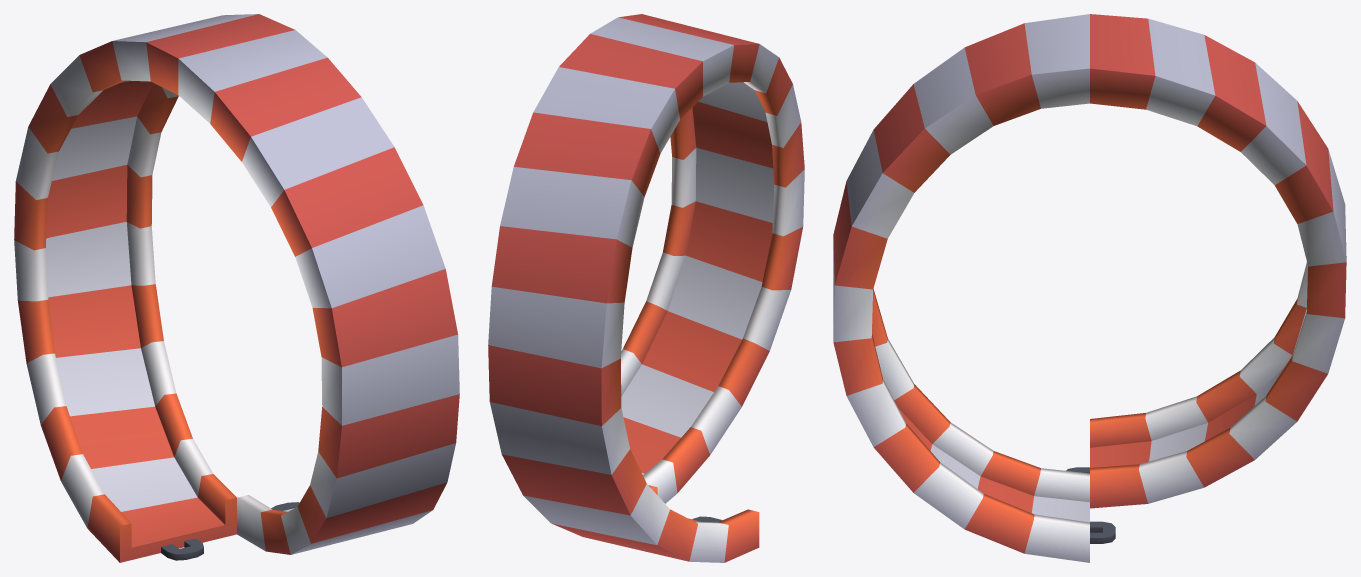
The model's file is track-striped-narrow-looping.glb.
The picture shows the model from 3 angles, left to right: view 1: azimuth 30°, elevation 25°; view 2: azimuth 150°, elevation 25°; view 3: azimuth 270°, elevation 25°; orthographic projection. The views are drawn at different scales.
Visible parts, largest first — view 1: track-striped-narrow-looping; view 2: track-striped-narrow-looping; view 3: track-striped-narrow-looping.
Part boxes in pixels (bbox=[...]): track-striped-narrow-looping: bbox=[14, 14, 459, 562]; track-striped-narrow-looping: bbox=[488, 14, 804, 562]; track-striped-narrow-looping: bbox=[833, 14, 1346, 562].
Bounding box in the file's own units: 2 × 4 × 3.98.
1 material, 1 textured.
